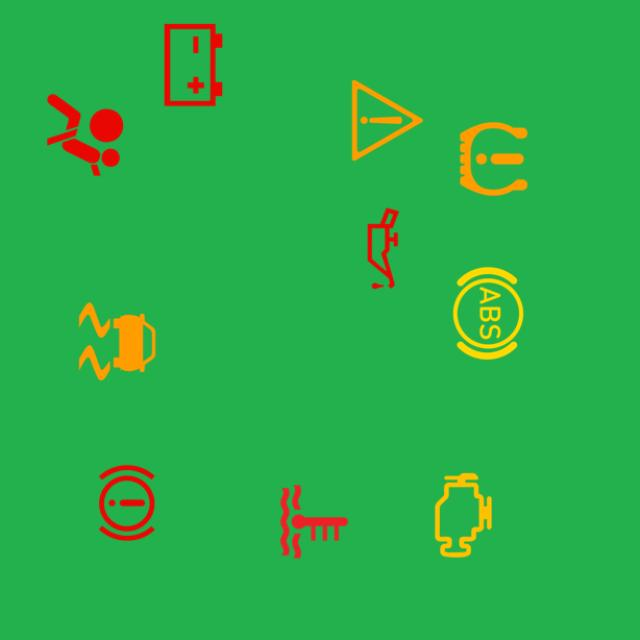Anti Lock Braking System: (438, 262, 539, 364)
Braking System Issue: (76, 452, 177, 554)
Charging System Issue: (143, 15, 244, 116)
Check Engine: (413, 465, 514, 566)
Electronic Stability Problem -ESP-: (67, 291, 168, 392)
Engine Overheating Warning Light: (264, 471, 365, 572)
Low Engine Oil Warning Light: (332, 198, 433, 299)
Low Tire Pressure Warning Light: (443, 109, 544, 210)
Master warning light: (337, 70, 438, 171)
SRS-Airbag: (34, 84, 136, 186)
